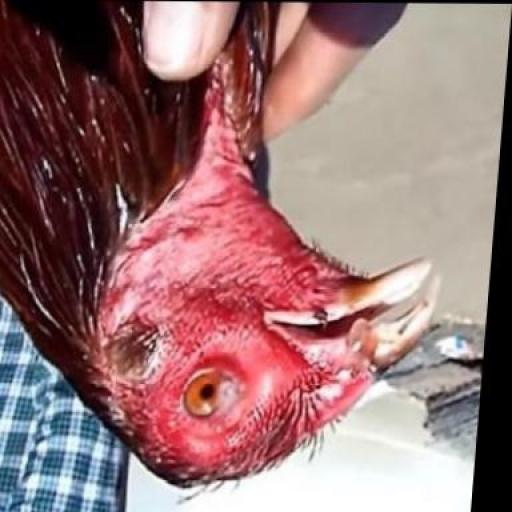disease: (126, 264, 335, 477)
